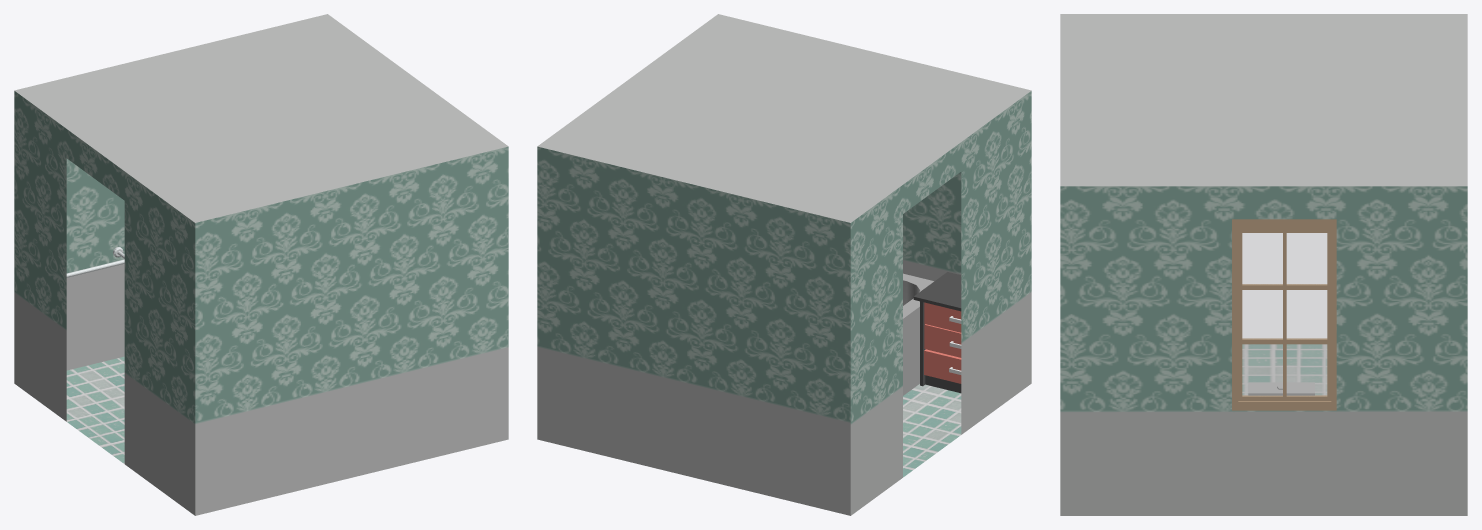
File: bathroom0.1.0.fbx
The picture shows the model from 3 angles, left to right: view 1: azimuth 30°, elevation 25°; view 2: azimuth 150°, elevation 25°; view 3: azimuth 270°, elevation 25°; orthographic projection. The views are drawn at different scales.
Visible parts, largest first — view 1: Cube; view 2: Cube, model.001, tub_low.001; view 3: Cube, 16690_Sidelight_Casement_Window-Honey_V1.001, tank_low.001.
Boxes of the visible parts, x1,y1,x2,y2 form: Cube: (14, 14, 508, 515); Cube: (537, 14, 1031, 515); model.001: (913, 272, 961, 393); tub_low.001: (903, 273, 933, 395); Cube: (1060, 14, 1467, 515); 16690_Sidelight_Casement_Window-Honey_V1.001: (1232, 219, 1336, 410); tank_low.001: (1248, 382, 1314, 395).
Bounding box in the file's own units: 1400 × 1250 × 1400.
